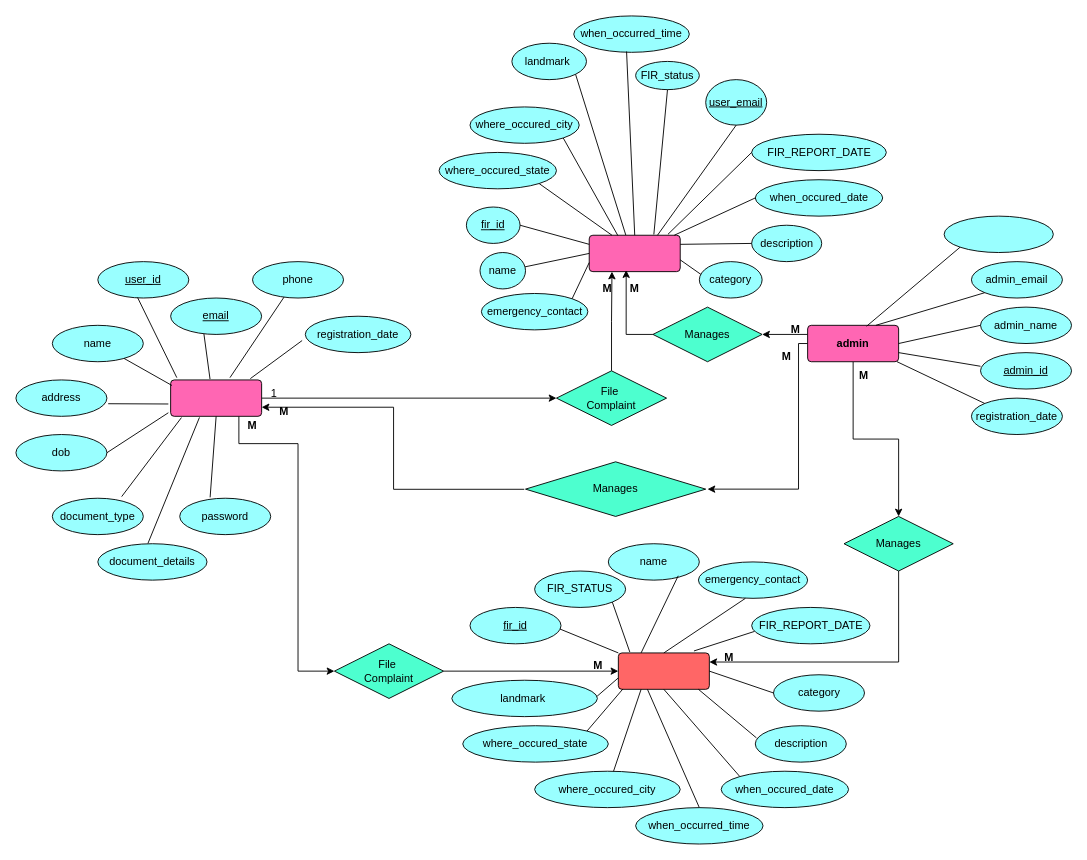
Image size: 1087x860. Some labels were removed from this diagram. Each missing label, with the centre of its shape:
admin_password: the point at 998,234
after_login_FIR: the point at 634,253
quick_FIR: the point at 663,670
users: the point at 216,397
